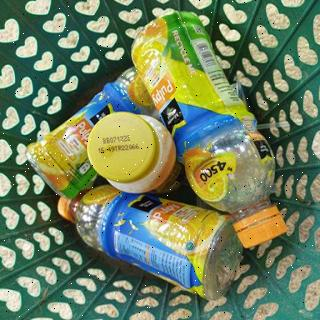Plastic-bottle: (130, 9, 291, 251), (58, 184, 246, 305), (25, 65, 161, 200), (87, 110, 179, 198)
